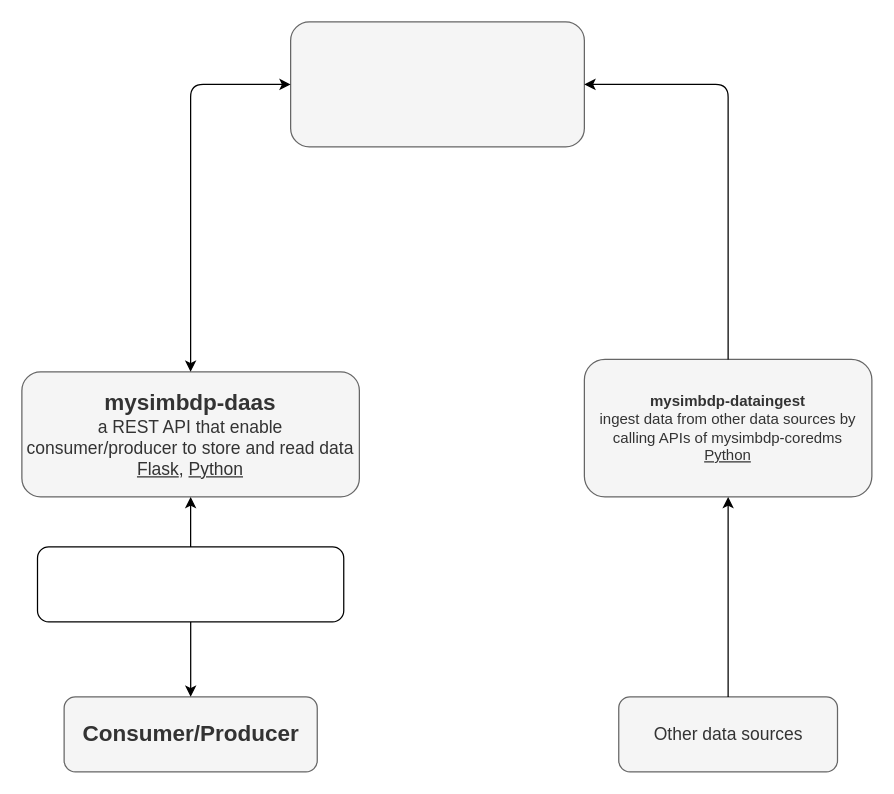
This 894x794 diagram has some shape labels left out. Here are the shapes that lost their labels. From the top down, the centre of each, then its label:
At (436,84): "mysimbdp-coredms a database that stores and manages data MongoDB".
At (190,584): "from_consumer-producer_to_daas.py".
